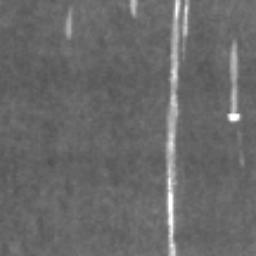Bright scratch: (166, 0, 187, 256), (228, 40, 243, 124), (65, 4, 75, 42), (130, 0, 138, 17)
